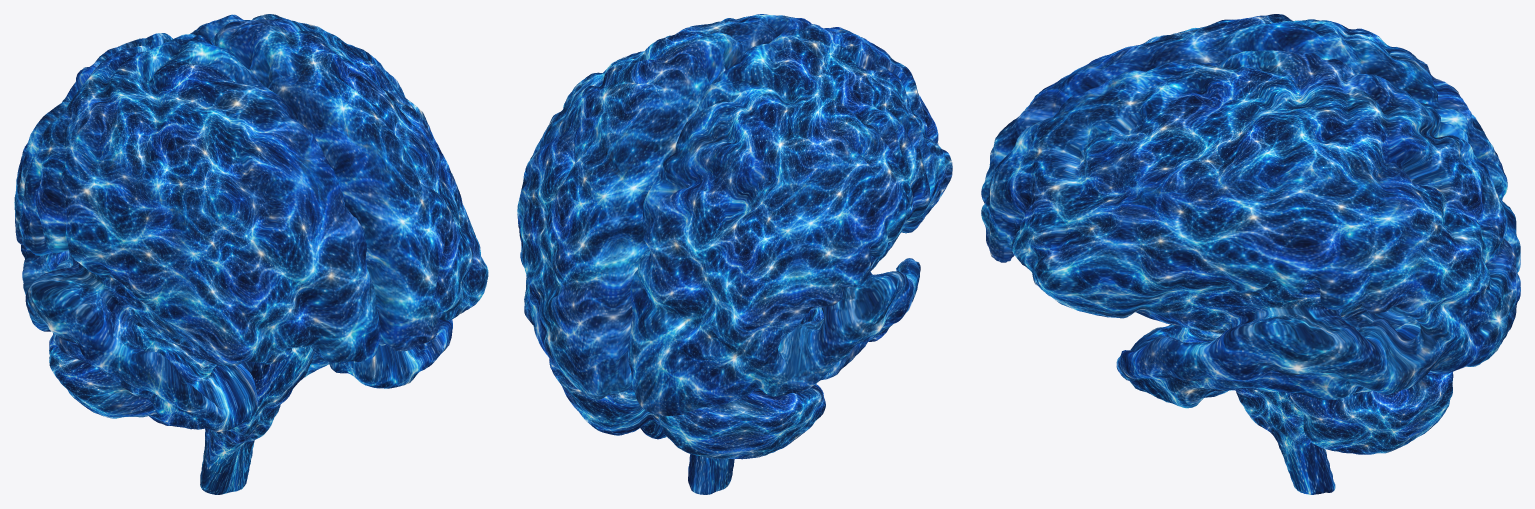
File: annobrain-neural-desktop.glb
3 renders of one model, left to right at view 1: azimuth 30°, elevation 25°; view 2: azimuth 150°, elevation 25°; view 3: azimuth 270°, elevation 25°, orthographic. The views are drawn at different scales.
Visible parts, largest first — view 1: Right cerebral hemisphere, Left cerebral hemisphere, Brainstem — midbrain, pons and medulla, Cerebellum; view 2: Right cerebral hemisphere, Left cerebral hemisphere, Cerebellum, Brainstem — midbrain, pons and medulla; view 3: Left cerebral hemisphere, Right cerebral hemisphere, Cerebellum, Brainstem — midbrain, pons and medulla.
Part boxes in pixels (x1,y1,x2,y2): Right cerebral hemisphere: (14, 33, 380, 432); Left cerebral hemisphere: (190, 14, 488, 388); Brainstem — midbrain, pons and medulla: (200, 345, 314, 494); Cerebellum: (49, 335, 328, 425); Right cerebral hemisphere: (628, 24, 952, 416); Left cerebral hemisphere: (517, 14, 812, 399); Cerebellum: (549, 358, 825, 459); Brainstem — midbrain, pons and medulla: (688, 454, 734, 494); Left cerebral hemisphere: (981, 50, 1520, 408); Right cerebral hemisphere: (981, 14, 1520, 272); Cerebellum: (1289, 372, 1453, 454); Brainstem — midbrain, pons and medulla: (1235, 388, 1335, 494).
Size of the model in its own units: 2.08 by 2.5 by 2.7.
Materials: 3 (3 with a texture image).
